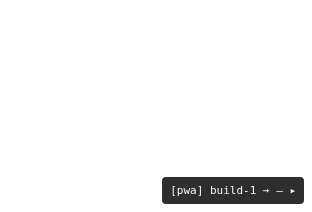
Test case: PwaUpdateDebugPanel › readiness gate › renders 'idle' transition when state is valid
The width and height of the screenshot is (312, 212).
Click the button. click: click(233, 190)
box: x1=170 y1=183 x2=296 y2=198
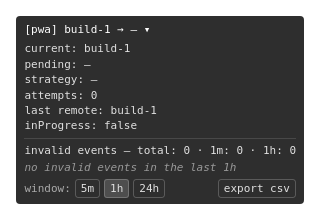
expect the text "current: build-1" is shown: met, box x1=24 y1=42 x2=130 y2=56
expect the text "pending: —" is shown: met, box x1=24 y1=58 x2=91 y2=71
expect the text "strategy: —" is shown: met, box x1=24 y1=73 x2=97 y2=86
